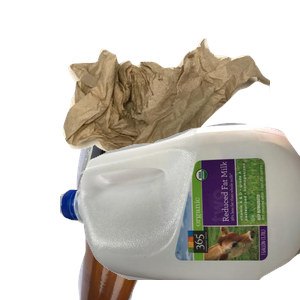glass: (60, 120, 300, 300)
metal: (99, 68, 244, 184)
plastic: (60, 120, 300, 300)
trash: (60, 36, 300, 198)
